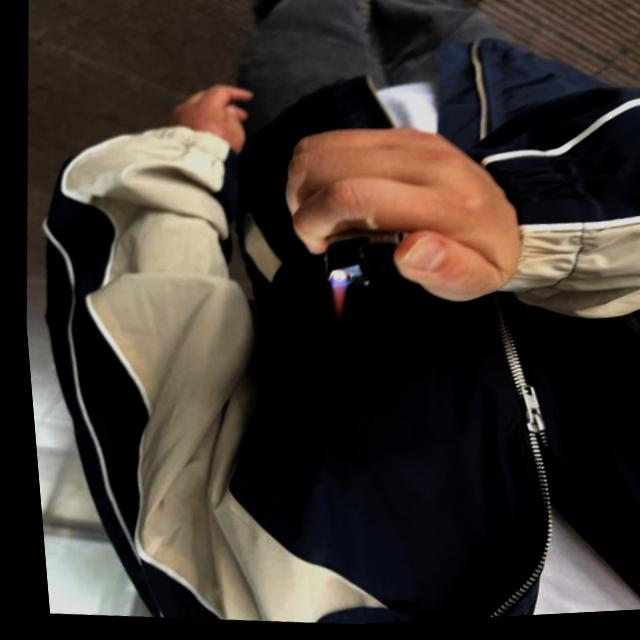helmet: (320, 282, 344, 320)
